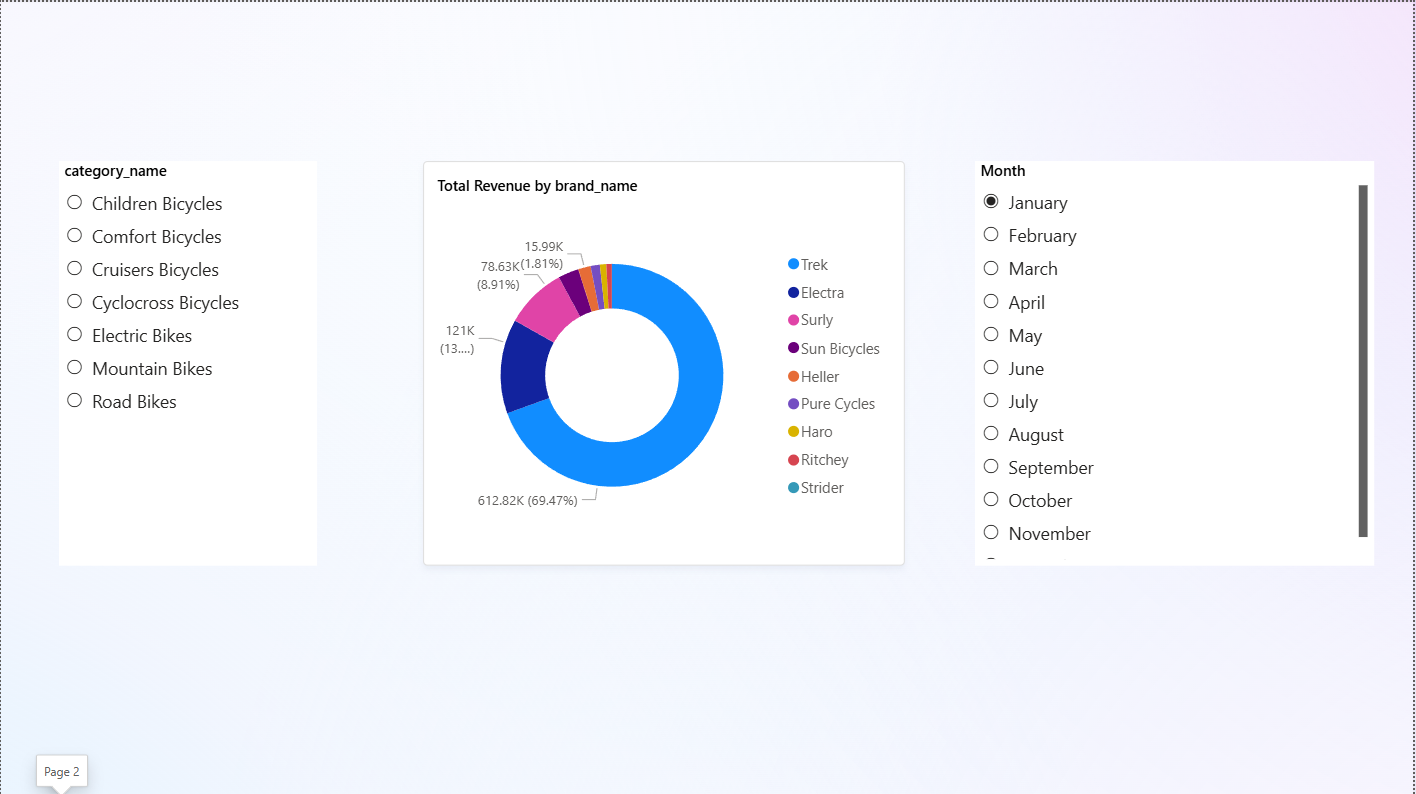

The page's visual inventory and layout, read from the dashboard file:
{"tool":"powerbi","page":{"name":"Page 2","canvas":[1280,720],"ordinal":1},"visuals":[{"type":"listSlicer","fields":{"Values":["retail categories.category_name"]},"box":[52.5,144,234.4,366.7],"z":0},{"type":"donutChart","fields":{"Category":["retail brands.brand_name"],"Y":["retail brands.Total Revenue"]},"box":[382.2,144,436.7,366.7],"z":1000},{"type":"listSlicer","fields":{"Values":["retail orders.order_date.Variation.Date Hierarchy.Month"]},"box":[883.2,144,361.8,366.7],"z":2000}]}

Visuals, with their boxes in screenshot pixels (x1, y1, x2, y2), scaled from the page's 1280x720 canvas onto the 1416x794 screenshot:
listSlicer - retail categories.category_name: BBox(58, 159, 317, 563)
donutChart - retail brands.brand_name x retail brands.Total Revenue: BBox(423, 159, 906, 563)
listSlicer - retail orders.order_date.Variation.Date Hierarchy.Month: BBox(977, 159, 1377, 563)
